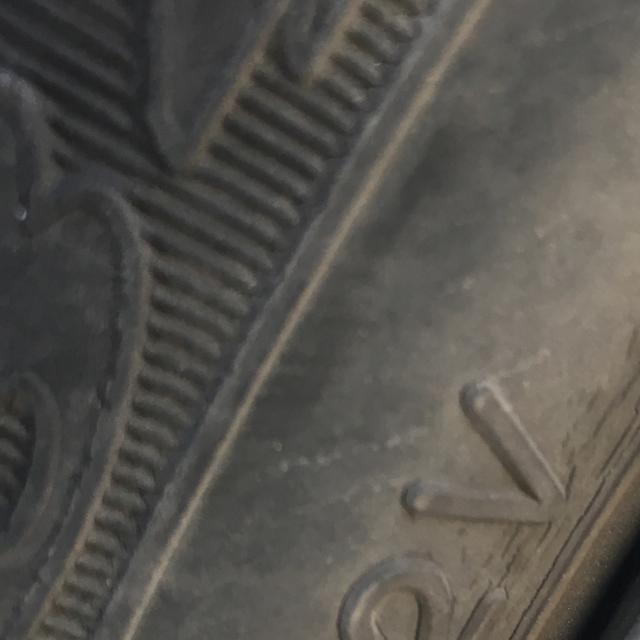Non-defective: (6, 0, 640, 306)
